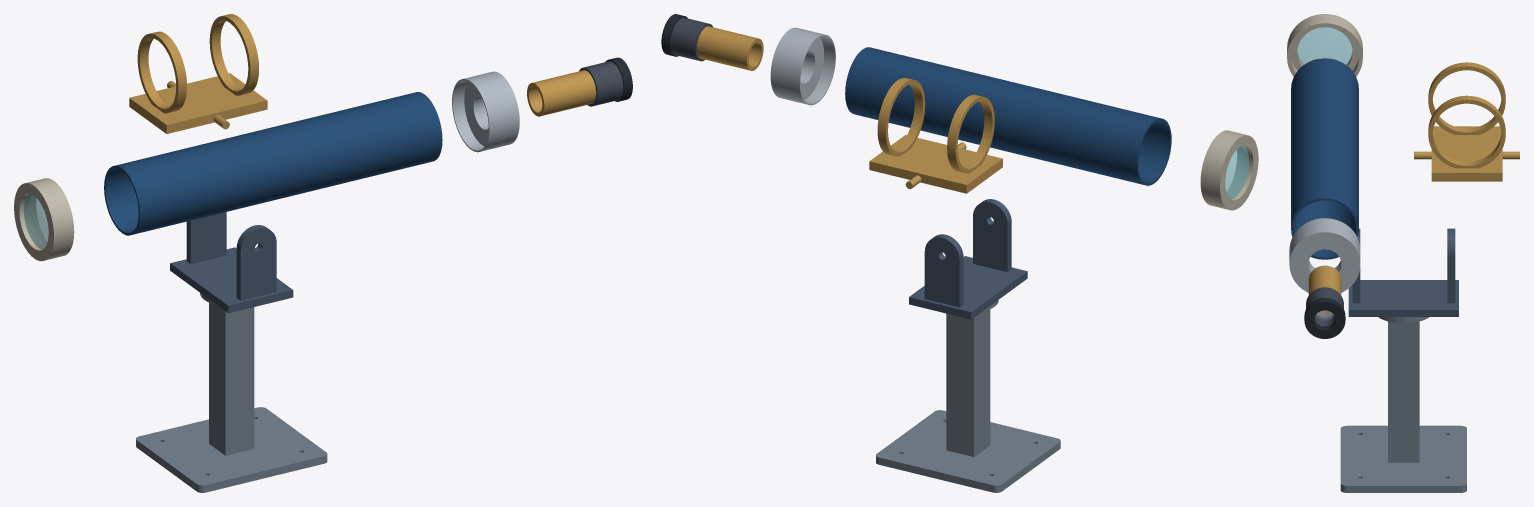
Rendered from telescope_exploded.glb.
3 views of the same model, side by side, from view 1: azimuth 30°, elevation 25°; view 2: azimuth 150°, elevation 25°; view 3: azimuth 270°, elevation 25° (orthographic). The views are drawn at different scales.
Visible parts, largest first — view 1: telescope_exploded (×9); view 2: telescope_exploded (×9); view 3: telescope_exploded (×10).
Part boxes in pixels (x1,y1,x2,y2): telescope_exploded (×9): [14, 14, 623, 492]; telescope_exploded (×9): [670, 17, 1258, 492]; telescope_exploded (×10): [1287, 14, 1519, 492].
Bounding box in the file's own units: 0.816 × 0.534 × 0.295.
